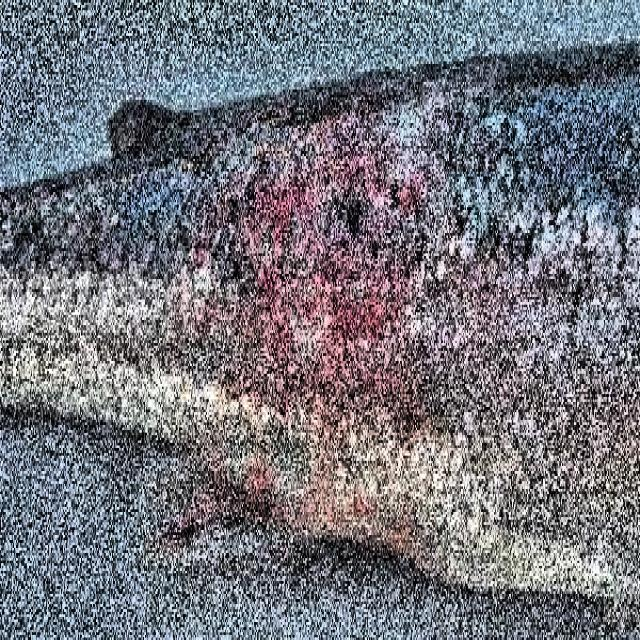mild_red: (0, 41, 639, 594)
